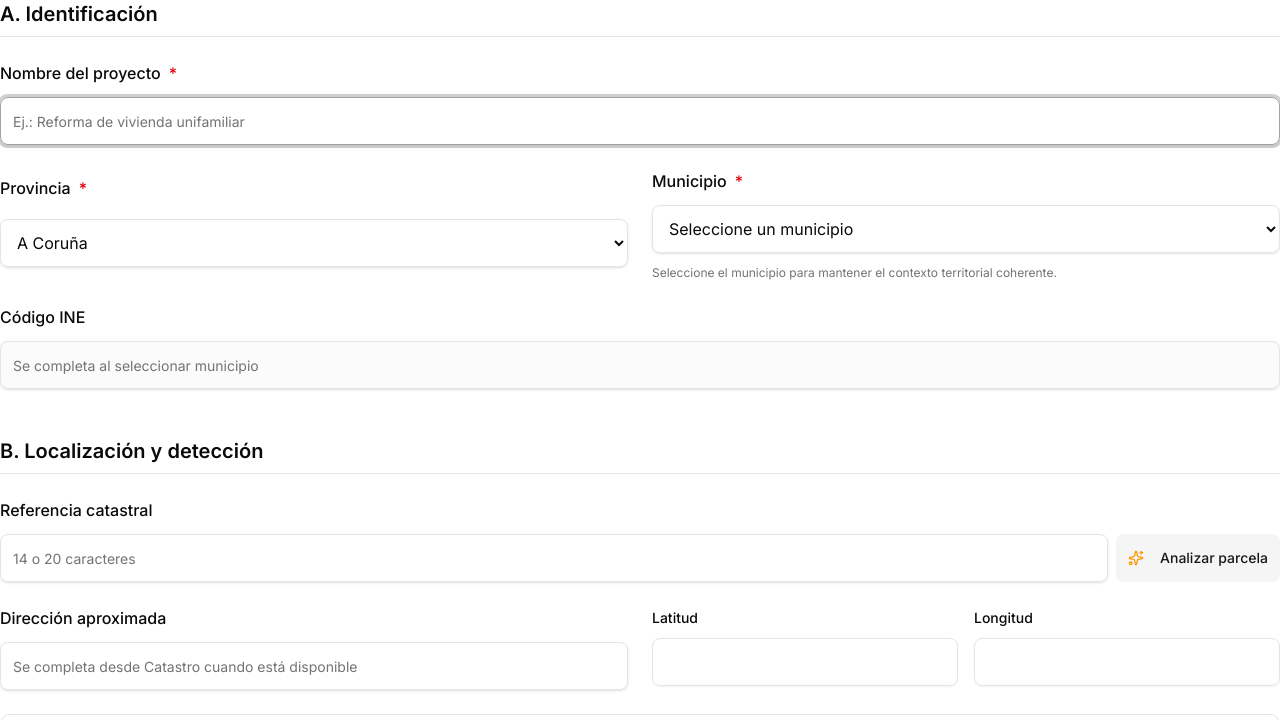
ExpedienteForm › replaces a derived province when the next official parcel belongs to another province
In the field labelled "Referencia catastral": (554, 558) [0, 534, 1108, 582], type "15009A01300255"
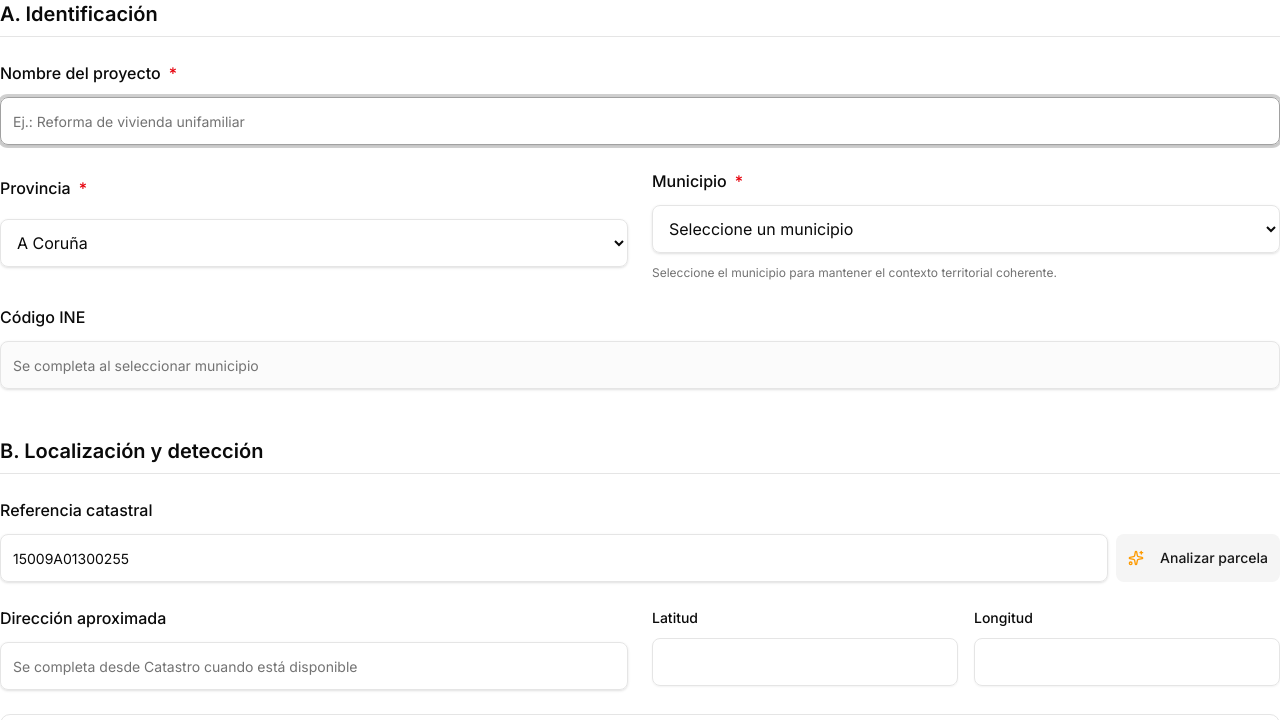
Click the button "Analizar parcela": (1198, 558) [1116, 534, 1279, 582]
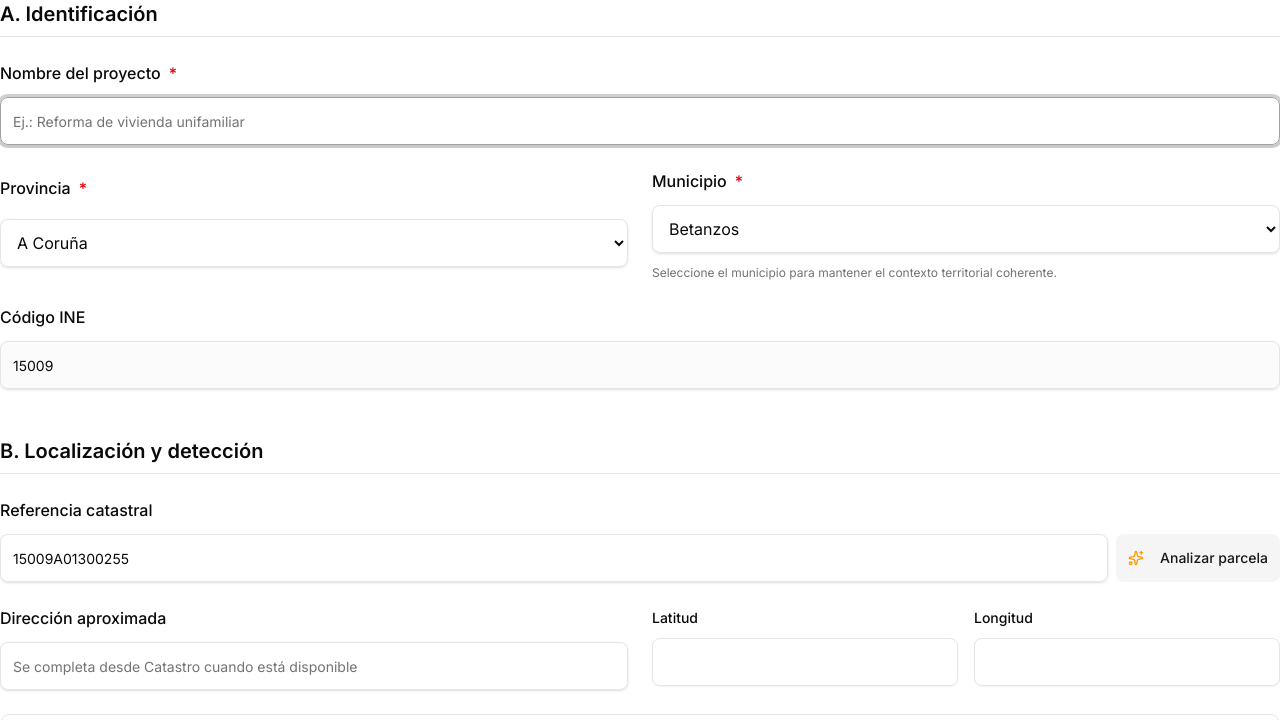
Expected: the dropdown labelled "Provincia *" shows "A Coruña", [0, 219, 628, 267]
Replace the text in the field labelled "Referencia catastral" with "27028000000000": (554, 558) [0, 534, 1108, 582]
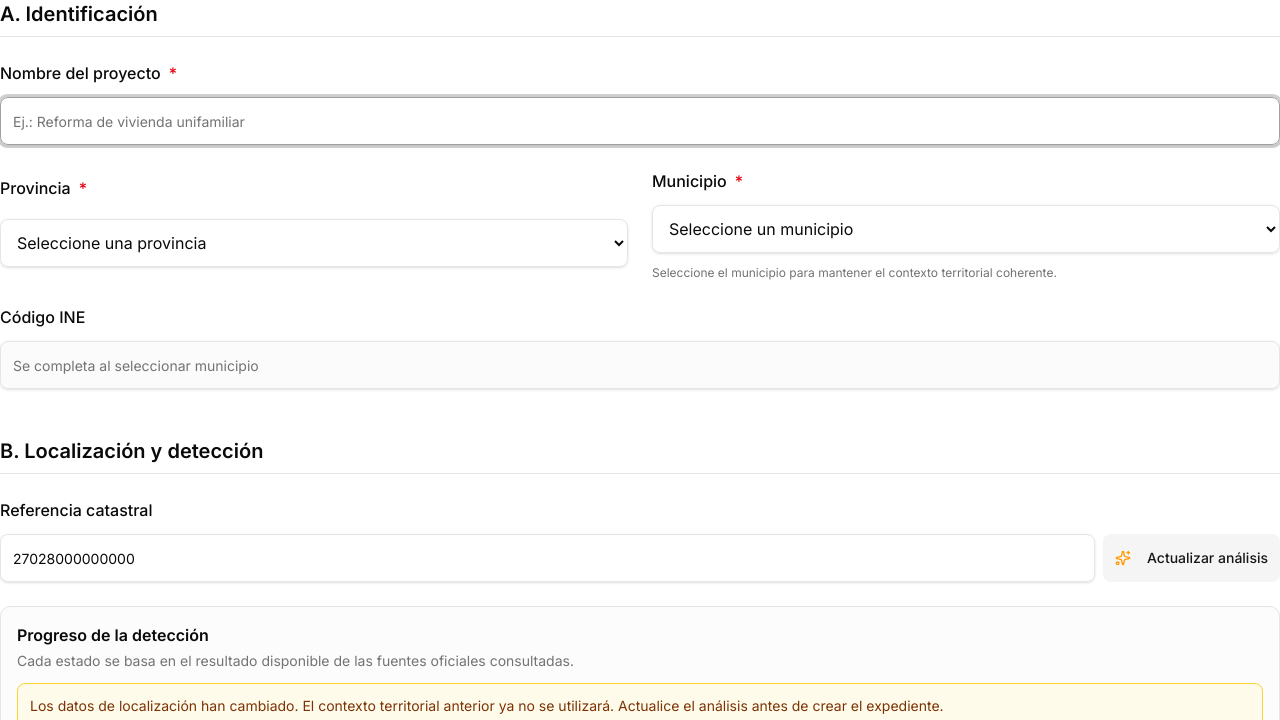
Expected: the dropdown labelled "Provincia *" shows "Seleccione una provincia", [0, 219, 628, 267]
Click the button "Actualizar análisis": (1192, 558) [1103, 534, 1279, 582]
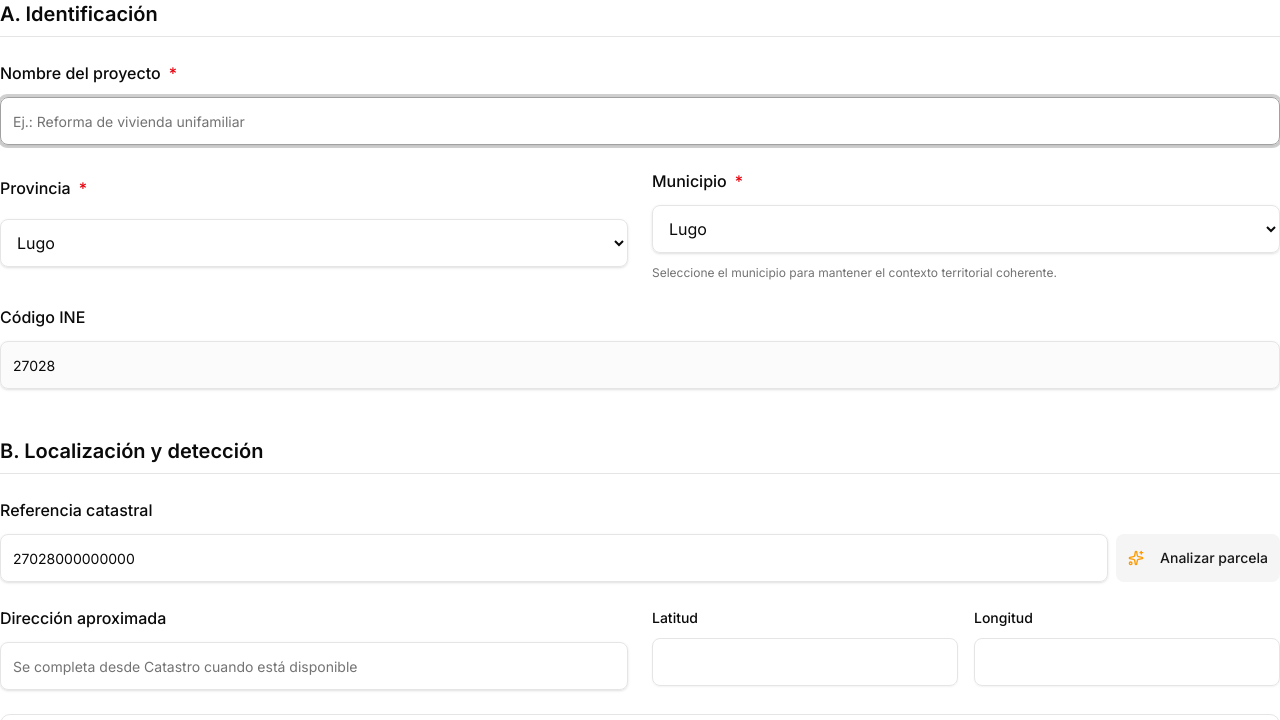
Expected: the dropdown labelled "Provincia *" shows "Lugo", [0, 219, 628, 267]
